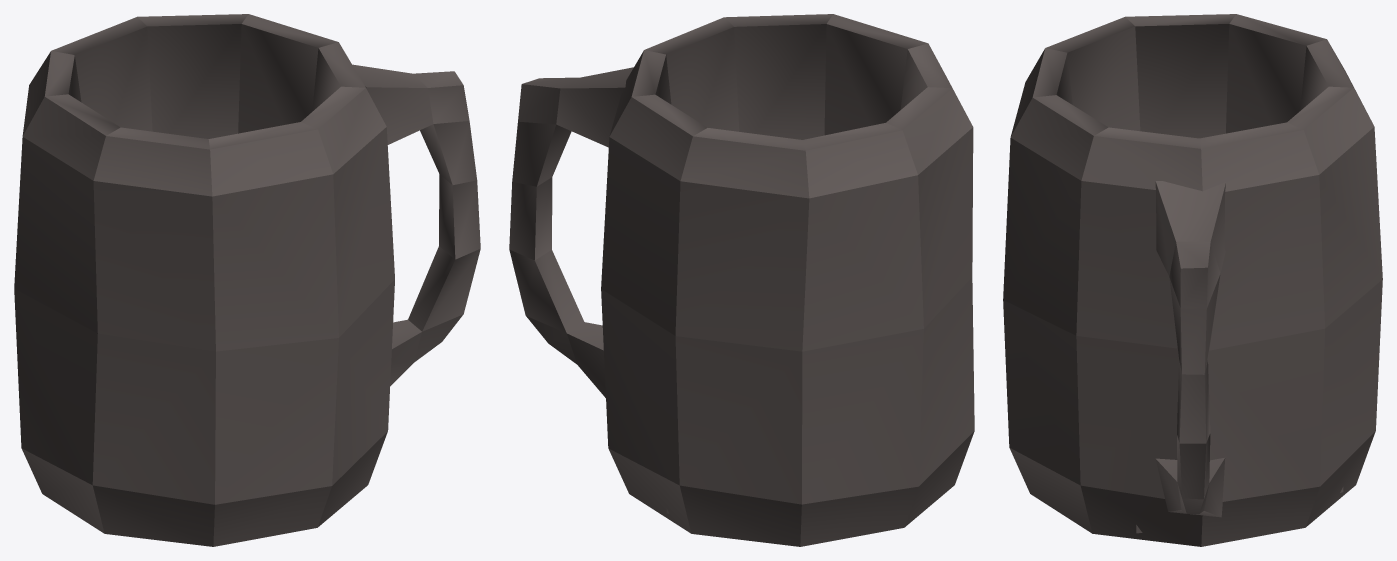
File: Cup_2.fbx
The picture shows the model from 3 angles, left to right: view 1: azimuth 30°, elevation 25°; view 2: azimuth 150°, elevation 25°; view 3: azimuth 270°, elevation 25°; orthographic projection.
Parts seen in each view (by area): view 1: Cup_2; view 2: Cup_2; view 3: Cup_2.
Boxes of the visible parts, bbox=[...] form: Cup_2: bbox=[14, 14, 480, 546]; Cup_2: bbox=[509, 14, 974, 546]; Cup_2: bbox=[1003, 14, 1382, 546].
Bounding box in the file's own units: 20.49 × 17.89 × 15.5.
